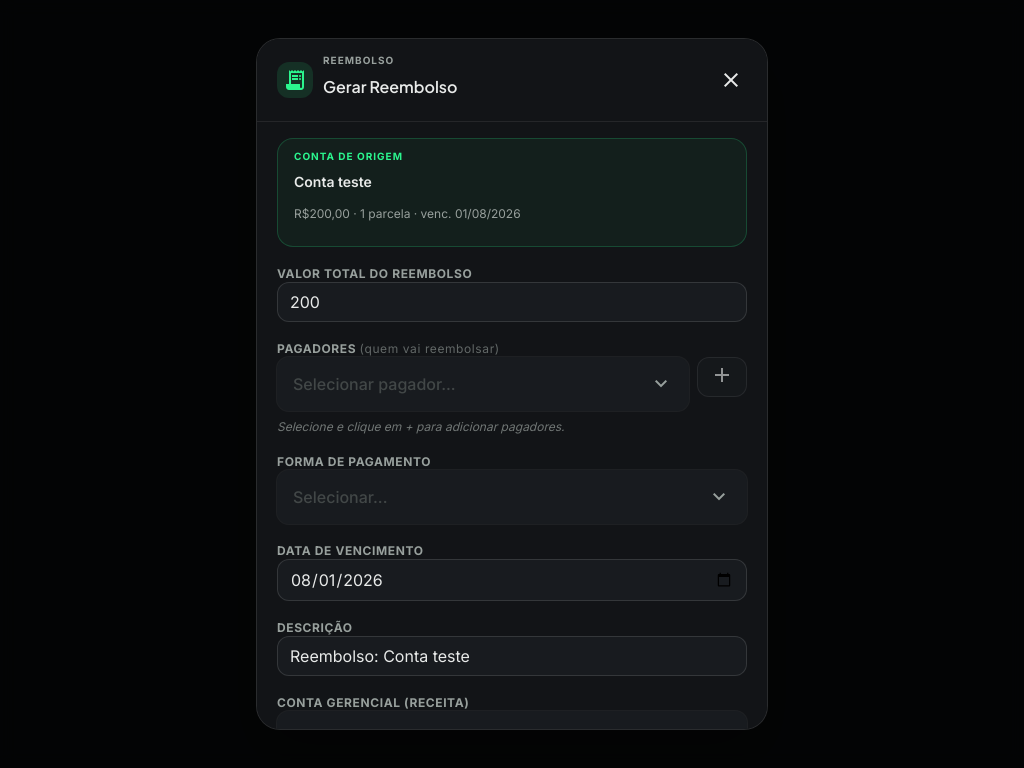
ReembolsoModal › shows divisão igualitária when 2+ pagadores are added
What coordinates should you click on to do the following:
click the dropdown named "Adicionar pagador"
I would click on:
 (483, 384)
Its box is [277,357,689,411].
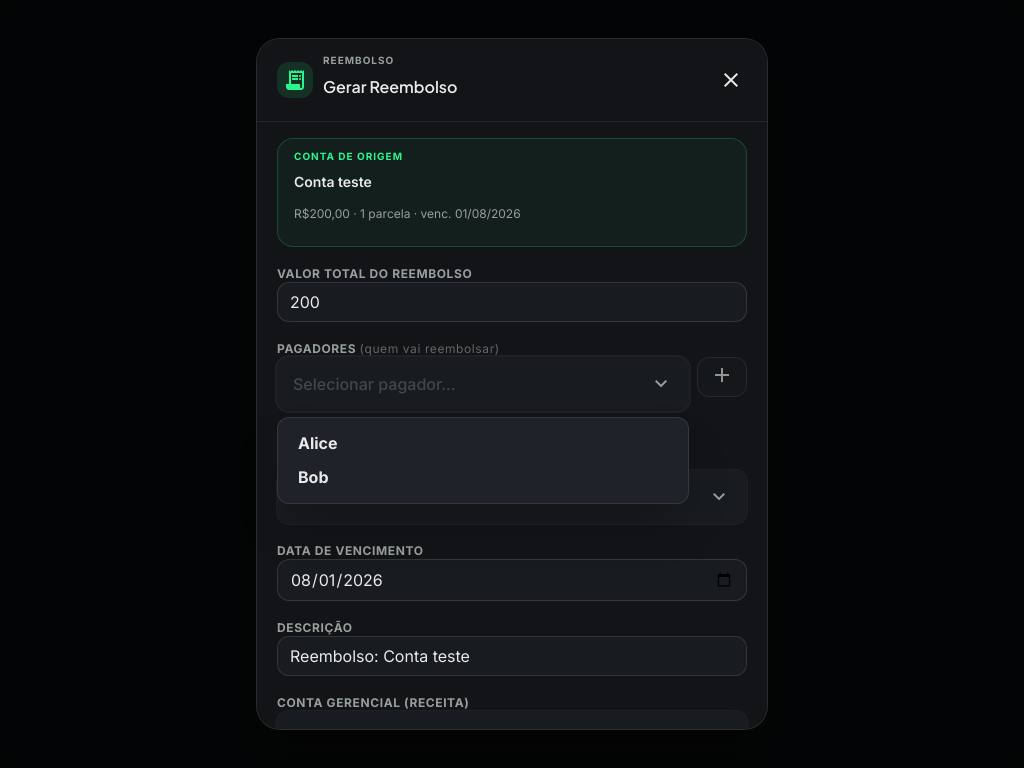
What coordinates should you click on to do the following:
click the button "Alice"
I would click on:
 (318, 443)
Its box is [286,426,680,460].
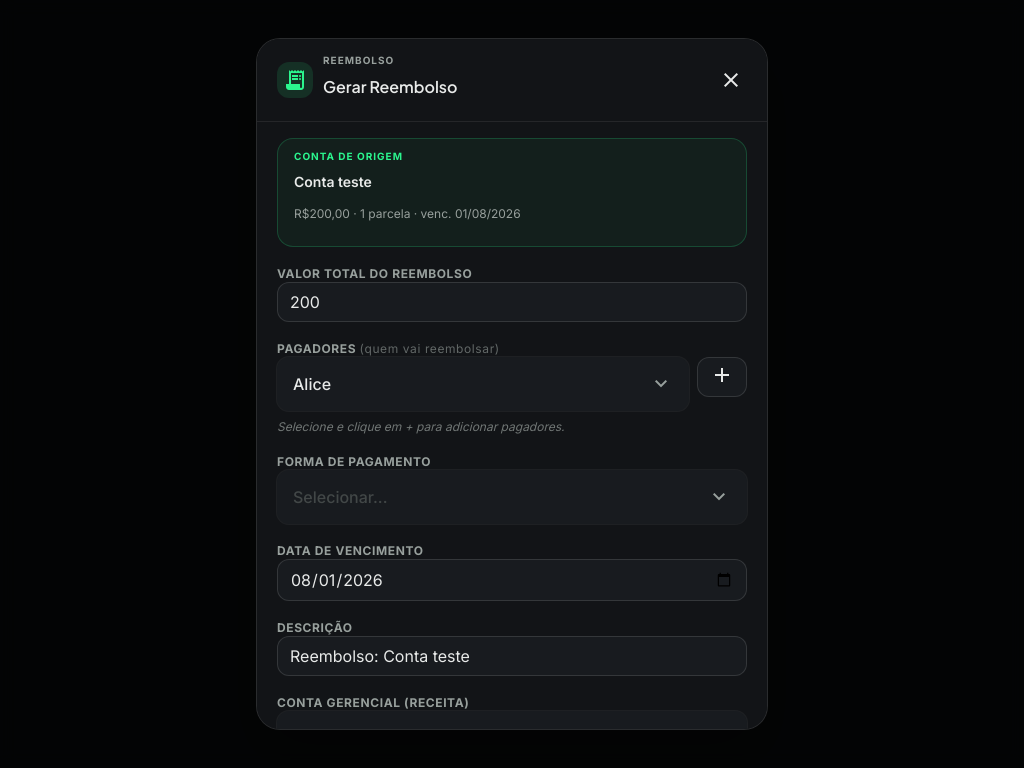
What coordinates should you click on to do the following:
click the button named "add"
I would click on:
 (722, 377)
Its box is [697,357,747,397].
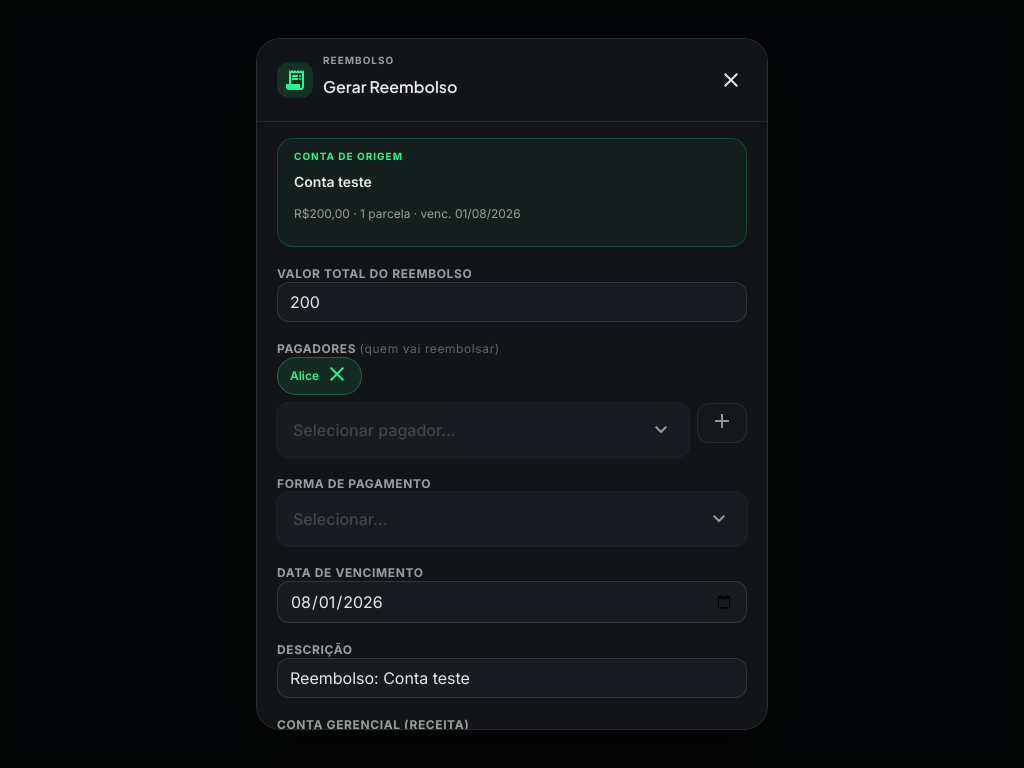
What coordinates should you click on to do the following:
click the dropdown named "Adicionar pagador"
I would click on:
 (483, 430)
Its box is [277,403,689,457].
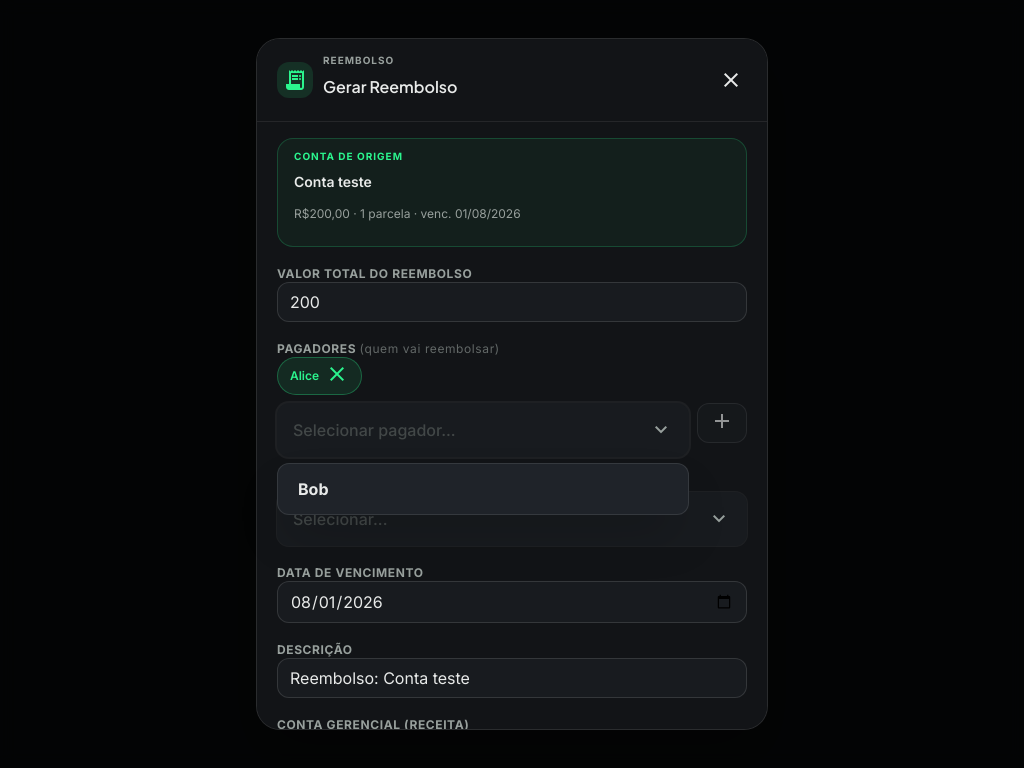
What coordinates should you click on to do the following:
click the button "Bob"
I would click on:
 (313, 489)
Its box is [286,472,680,506].
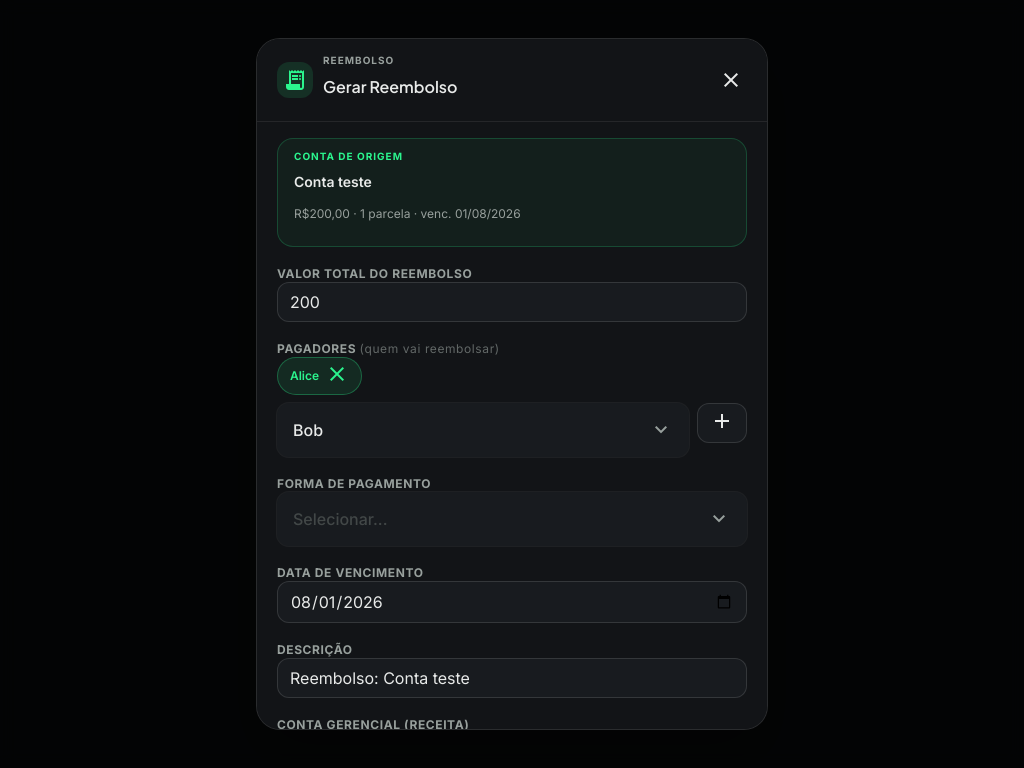
What coordinates should you click on to do the following:
click the button named "add"
I would click on:
 (722, 423)
Its box is [697,403,747,443].
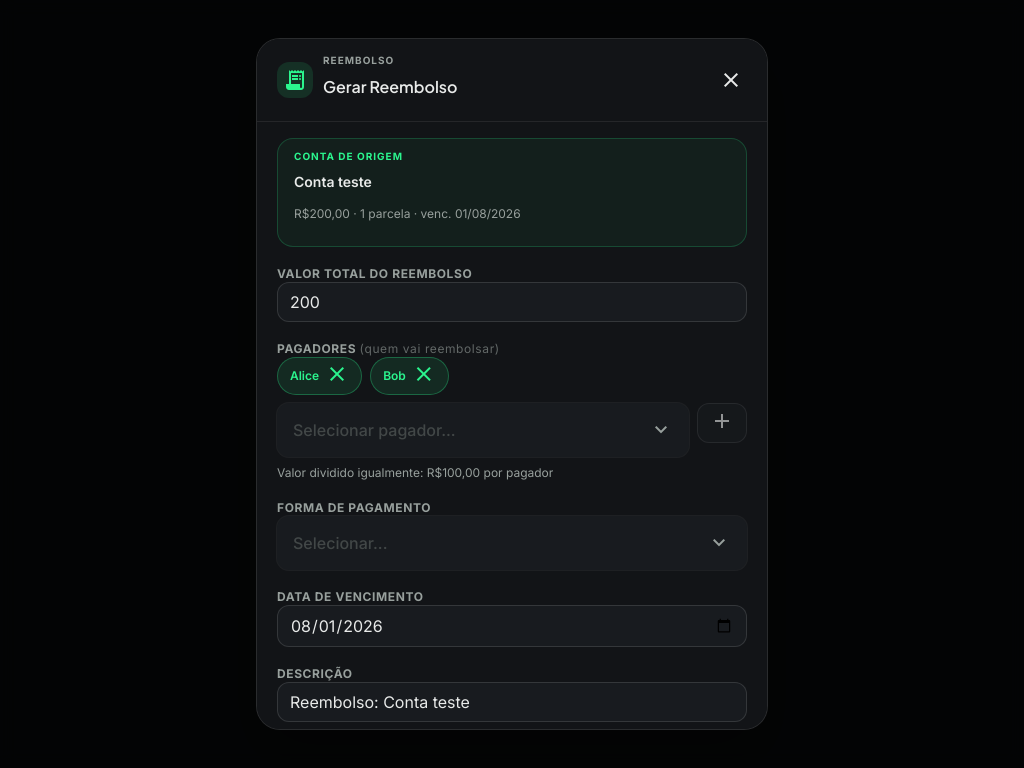
Result: the text "Valor dividido igualmente: R$100,00 por pagador" is shown at [277,465,553,480]
